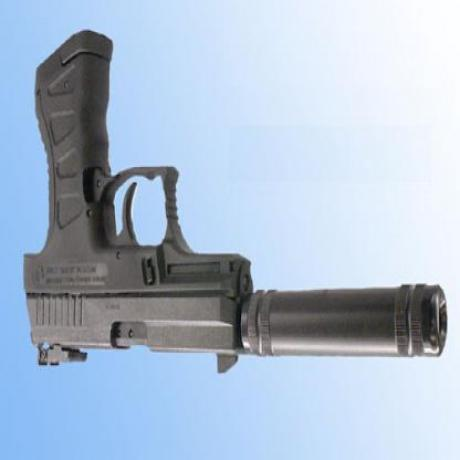weapon: (21, 18, 455, 374)
